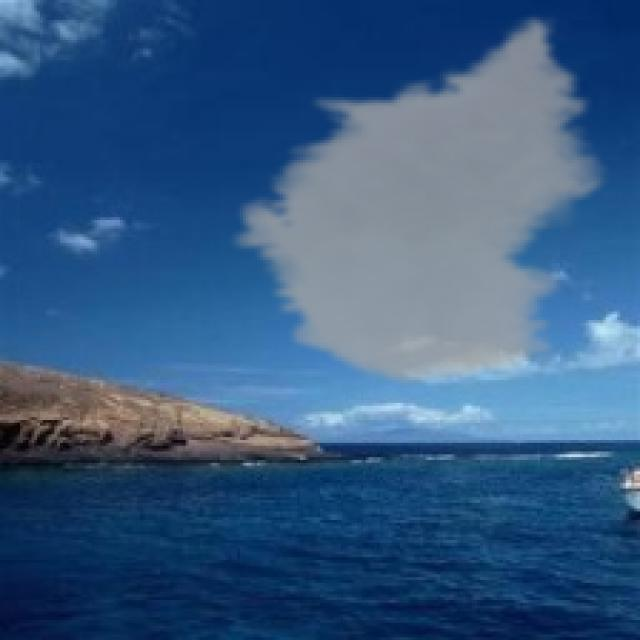smoke: (226, 14, 617, 389)
